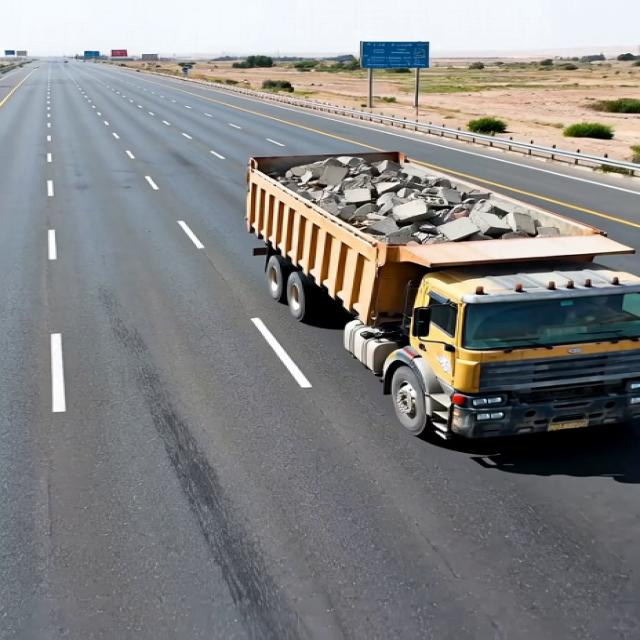trailer: (236, 150, 638, 276)
truck: (211, 131, 640, 449)
